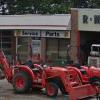Tractor: (13, 36, 100, 99)
